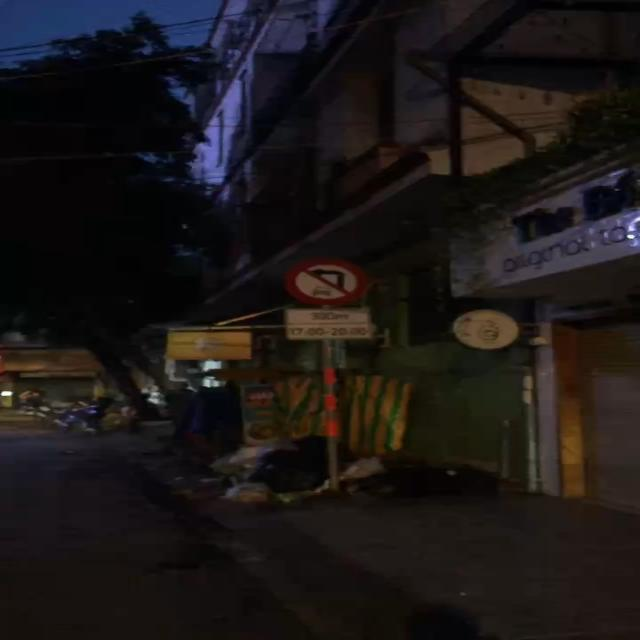Bien bao cam xe o to re trai: (278, 257, 375, 303)
